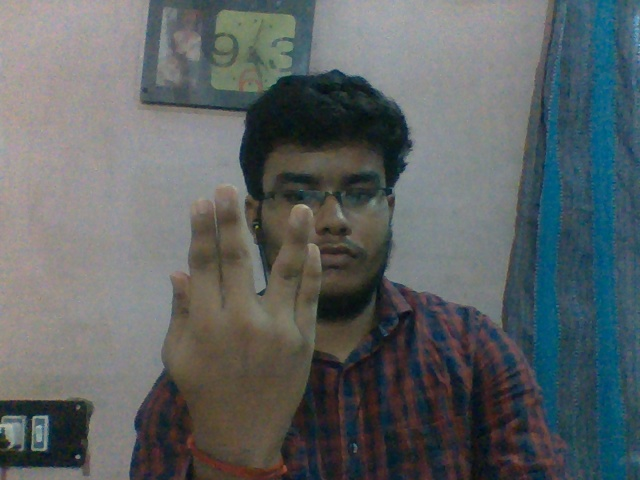LiveLong: (160, 183, 323, 434)
